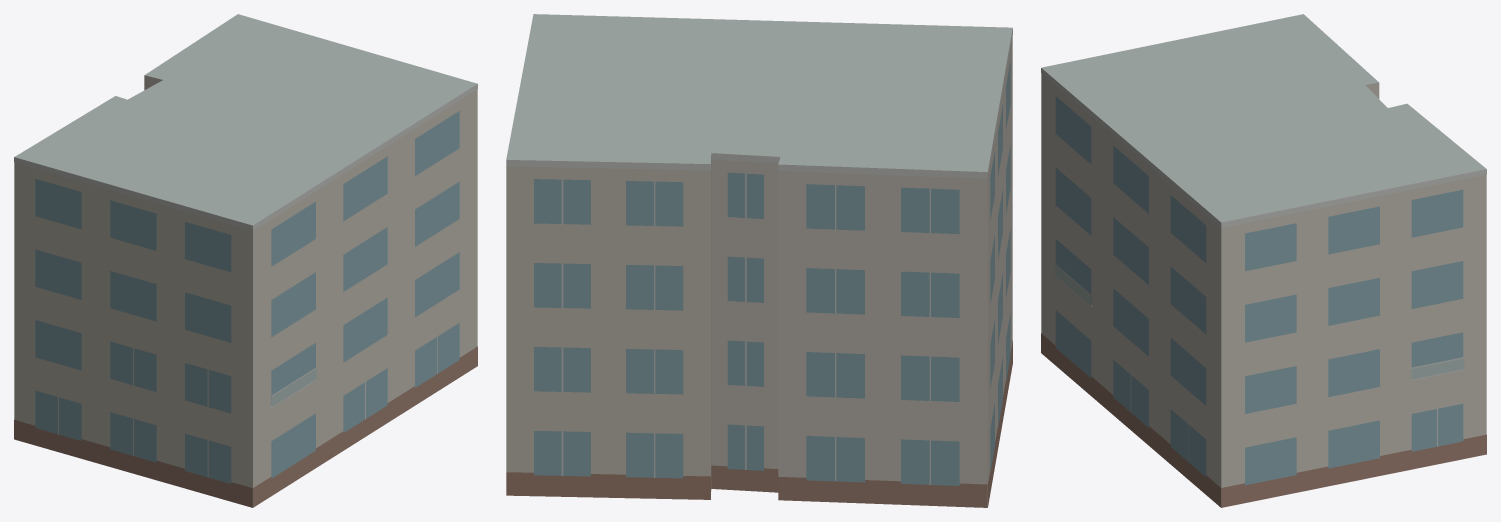
The model's file is survey-upis-33024446.glb.
3 renders of one model, left to right at view 1: azimuth 30°, elevation 25°; view 2: azimuth 150°, elevation 25°; view 3: azimuth 270°, elevation 25°, orthographic. The views are drawn at different scales.
Visible parts, largest first — view 1: survey-upis-33024446.tmp; view 2: survey-upis-33024446.tmp; view 3: survey-upis-33024446.tmp.
Part boxes in pixels (bbox=[...]): survey-upis-33024446.tmp: bbox=[14, 14, 477, 507]; survey-upis-33024446.tmp: bbox=[506, 14, 1012, 507]; survey-upis-33024446.tmp: bbox=[1041, 14, 1486, 507].
Bounding box in the file's own units: 19.91 × 12.7 × 17.99.
